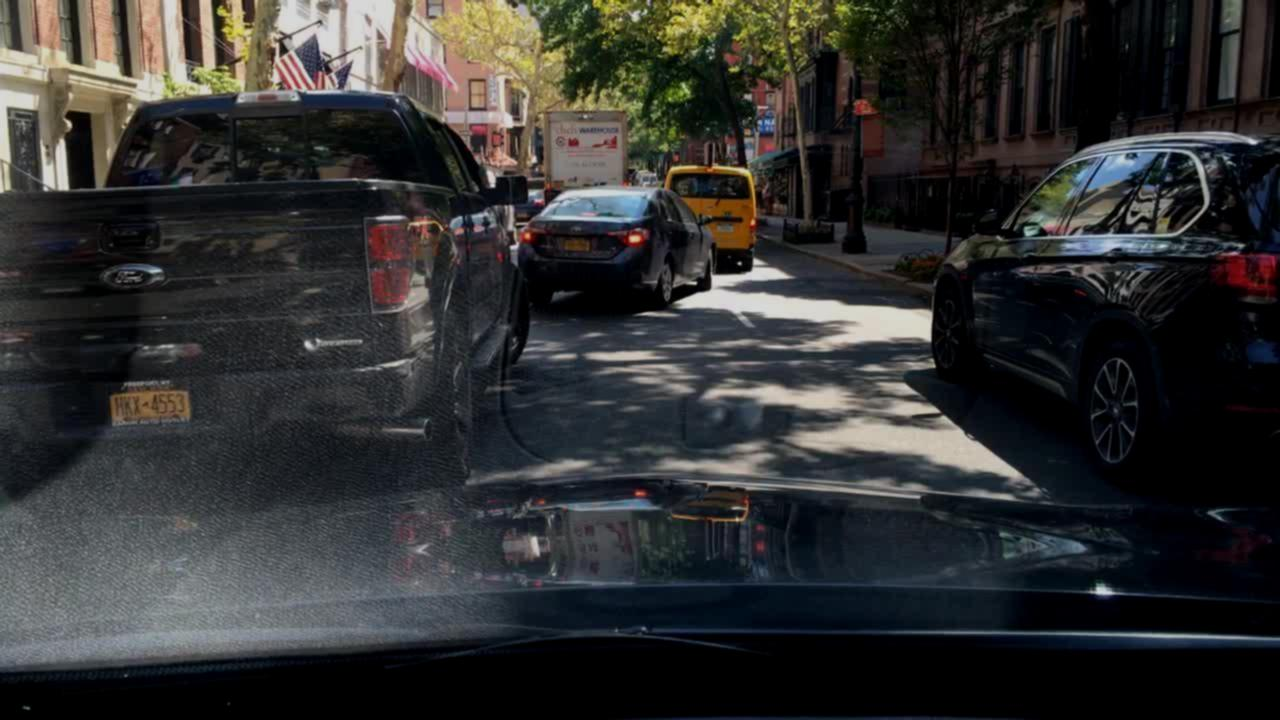ford: (94, 262, 167, 293)
